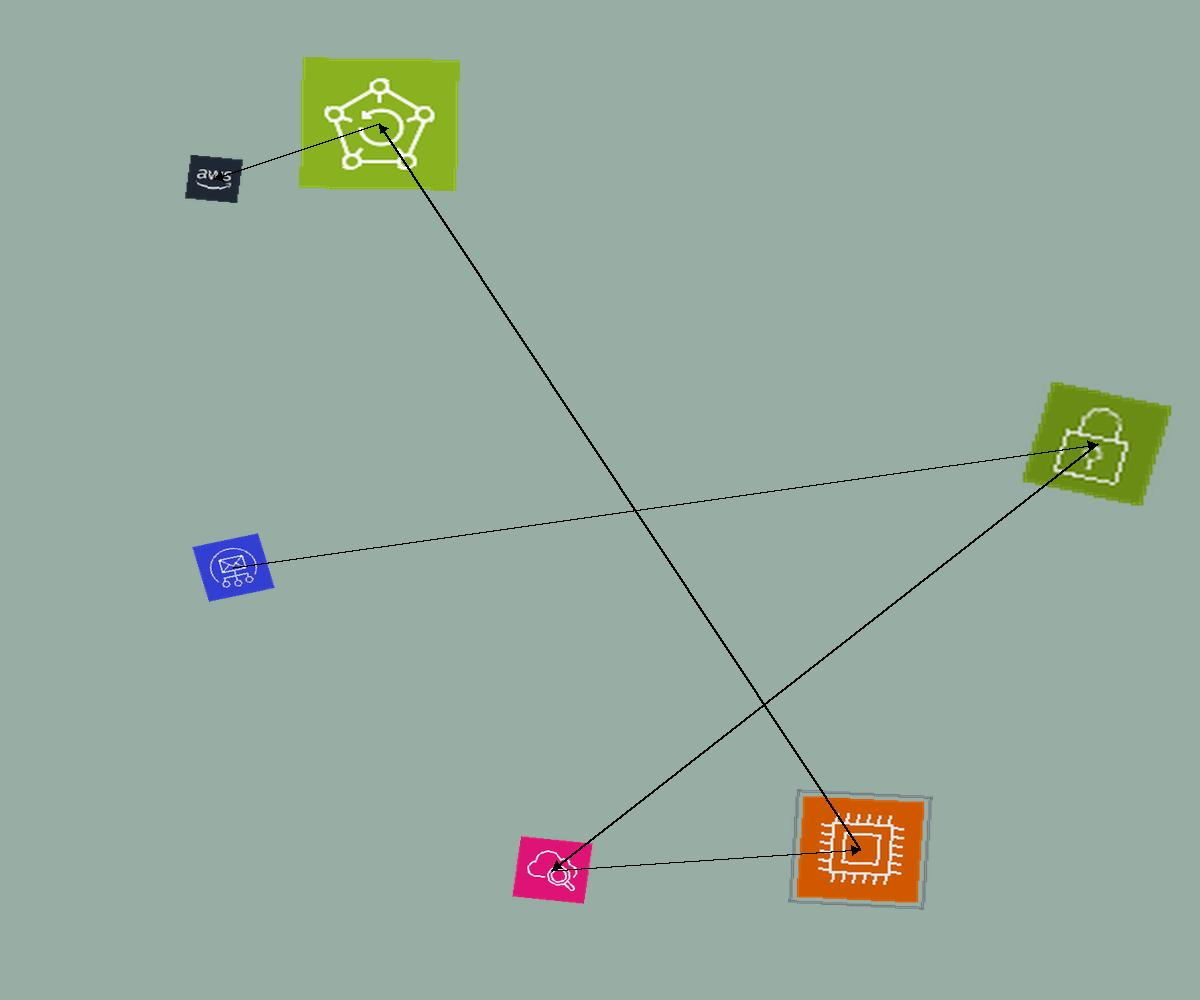AWS-Backup: (299, 57, 460, 191)
AWS-Category_Compute: (788, 789, 933, 910)
AWS-Cloud-logo: (184, 154, 244, 204)
AWS-CloudWatch: (512, 836, 593, 904)
AWS-Public-subnet: (1020, 380, 1174, 508)
AWS-Simple-Email-Service: (192, 533, 275, 602)
